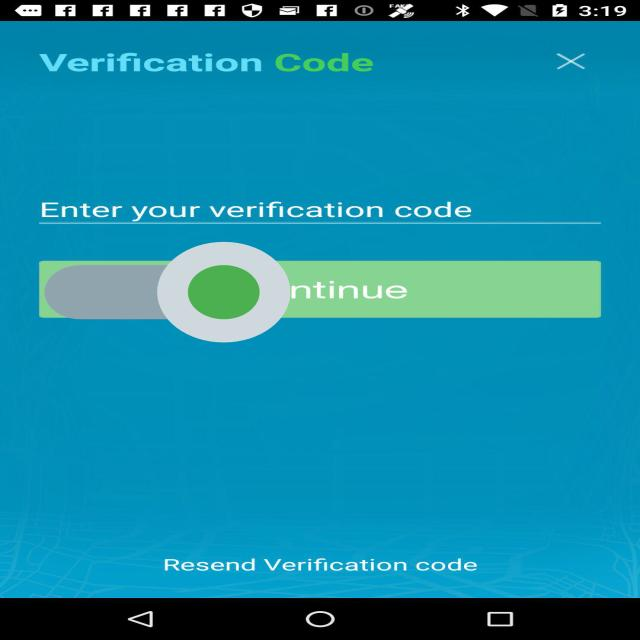social proof: (44, 199, 290, 385)
